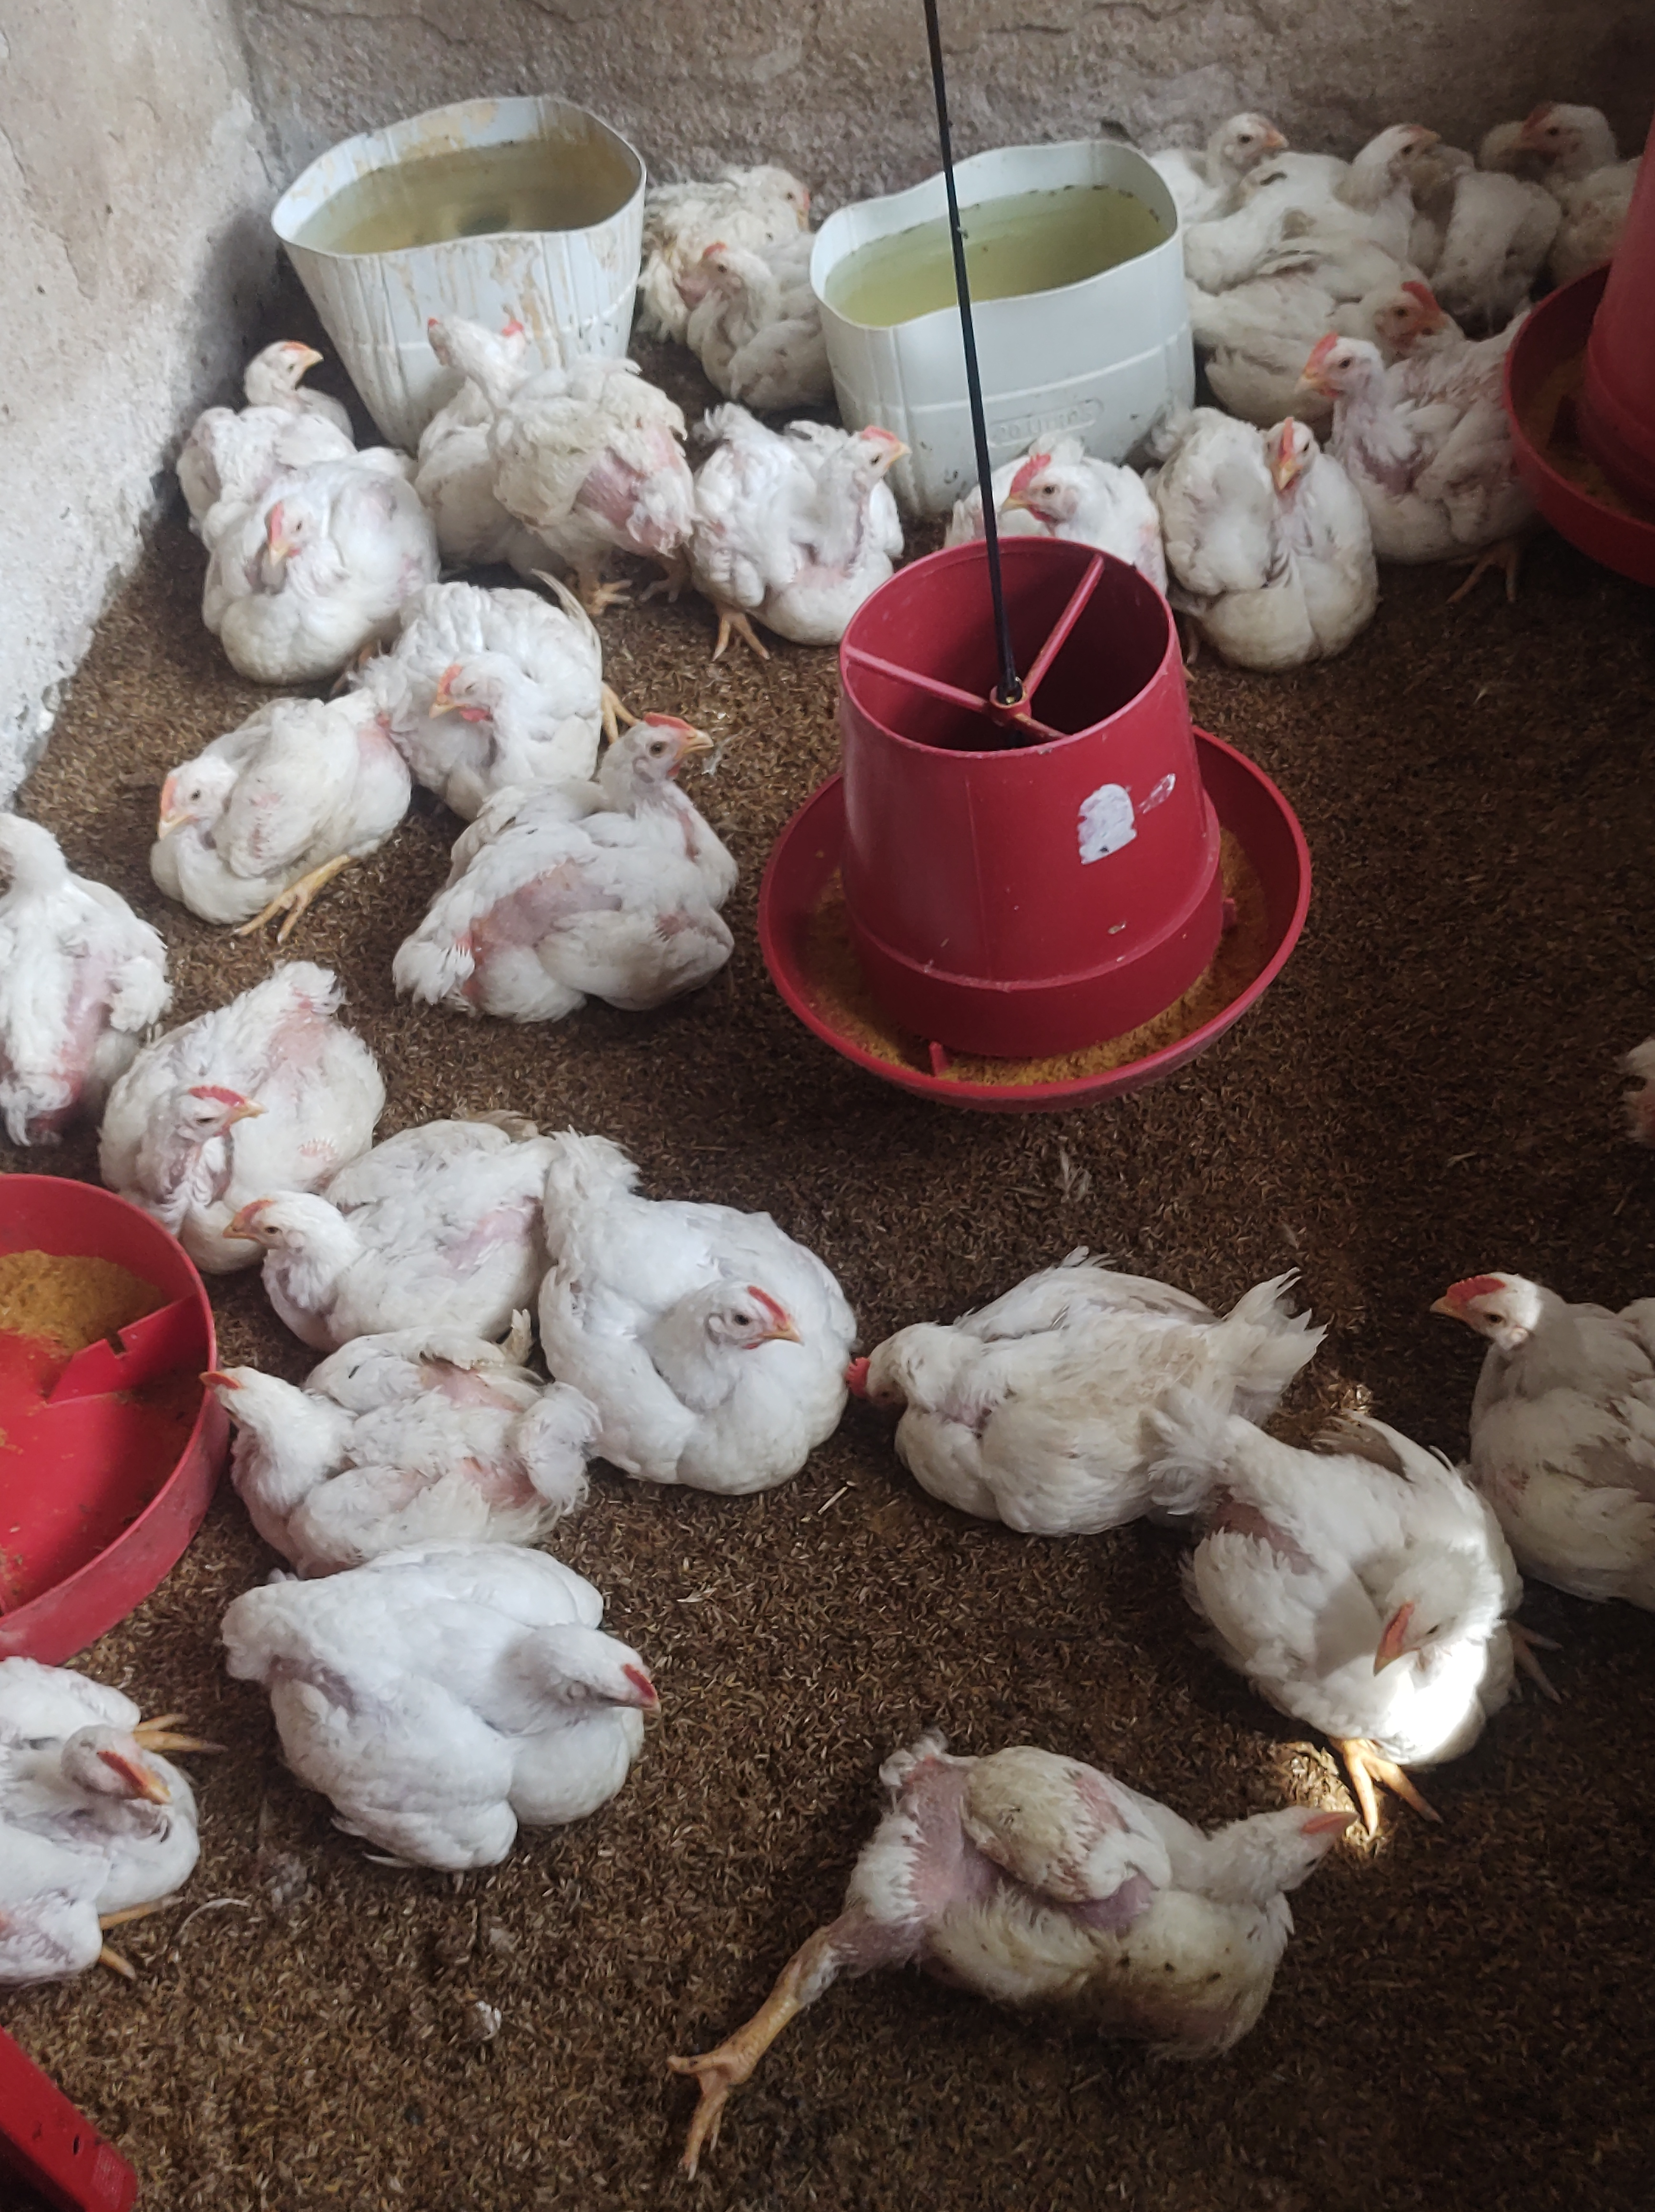Pollos: (836, 1713, 1332, 2071), (221, 1548, 654, 1862), (535, 1118, 862, 1504), (819, 1247, 1274, 1523), (396, 716, 770, 1029), (1226, 1464, 1570, 1795), (1415, 1203, 1655, 1629), (198, 1323, 572, 1549), (0, 1659, 226, 2028), (116, 972, 370, 1263), (1313, 330, 1563, 607), (0, 774, 184, 1143), (233, 1129, 546, 1344), (150, 689, 424, 929), (1168, 417, 1389, 703), (685, 407, 923, 670), (468, 323, 699, 570), (381, 574, 595, 796), (195, 466, 422, 673), (954, 423, 1161, 612), (635, 146, 824, 290), (165, 322, 332, 473), (1535, 85, 1655, 263), (697, 256, 833, 409), (1361, 120, 1450, 238), (1326, 289, 1431, 377), (1206, 78, 1269, 176), (1481, 115, 1530, 205)
